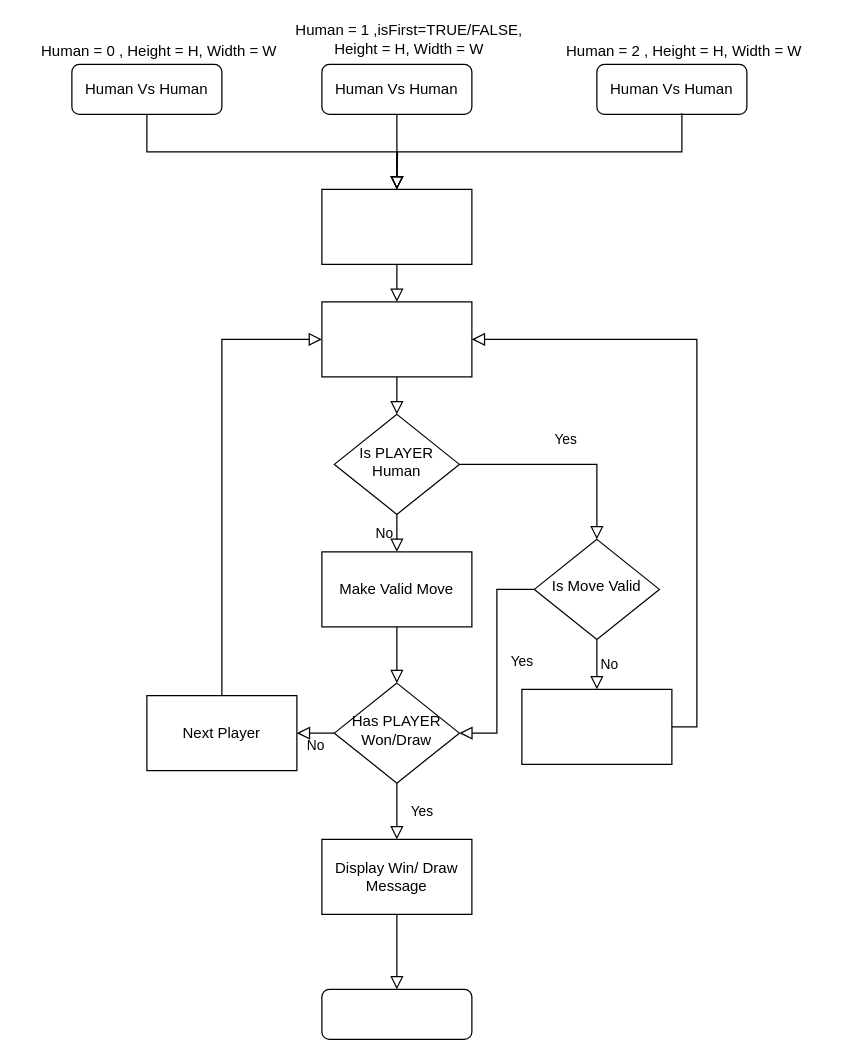
Image size: 843x1061. Some labels were removed from this diagram. The centre of each missing label's shape, as x and y in pixels:
"Display Board , Wait for PLAYER" goes at (396,339).
"Game Finished" goes at (396,1013).
"Generate Error Message" goes at (596,726).
"Iniialise Board and valid moves" goes at (396,226).
